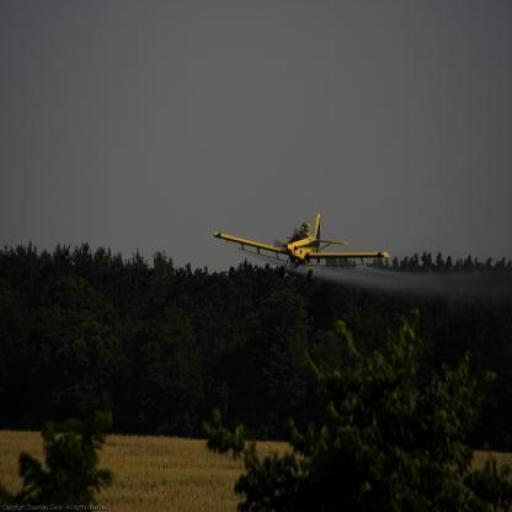aircraft: (210, 204, 396, 281)
